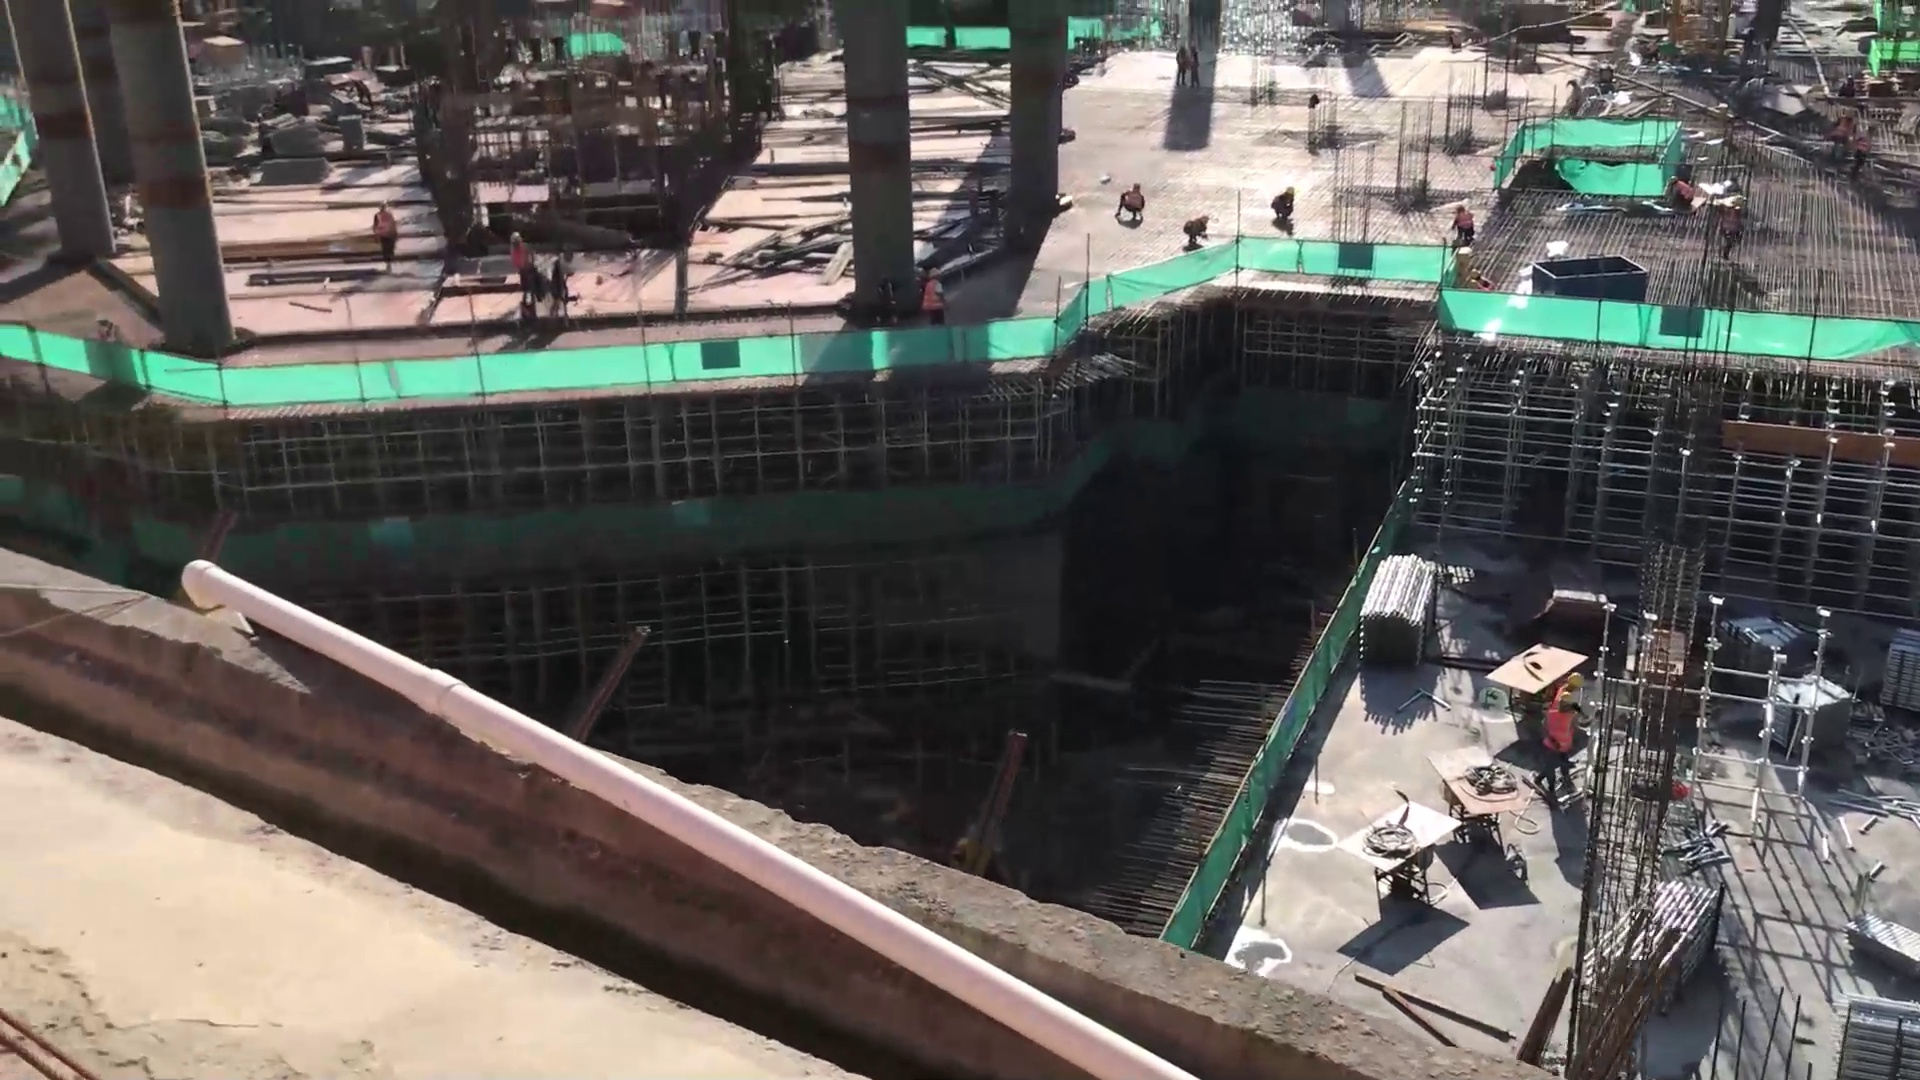helmet: (1564, 672, 1587, 691), (1560, 687, 1582, 705)
person: (1543, 689, 1580, 795), (501, 228, 541, 304), (370, 198, 405, 276), (1109, 178, 1153, 233), (1662, 173, 1701, 214), (1268, 184, 1307, 226), (1446, 202, 1479, 241), (1180, 213, 1215, 250), (1831, 107, 1855, 155), (1850, 129, 1871, 180), (1553, 669, 1587, 697)
scaffold: (1346, 544, 1456, 681)
vest: (1544, 708, 1574, 755)
